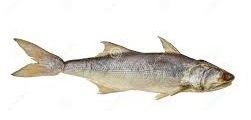Fourfinger Threadfish: (11, 36, 236, 100)
